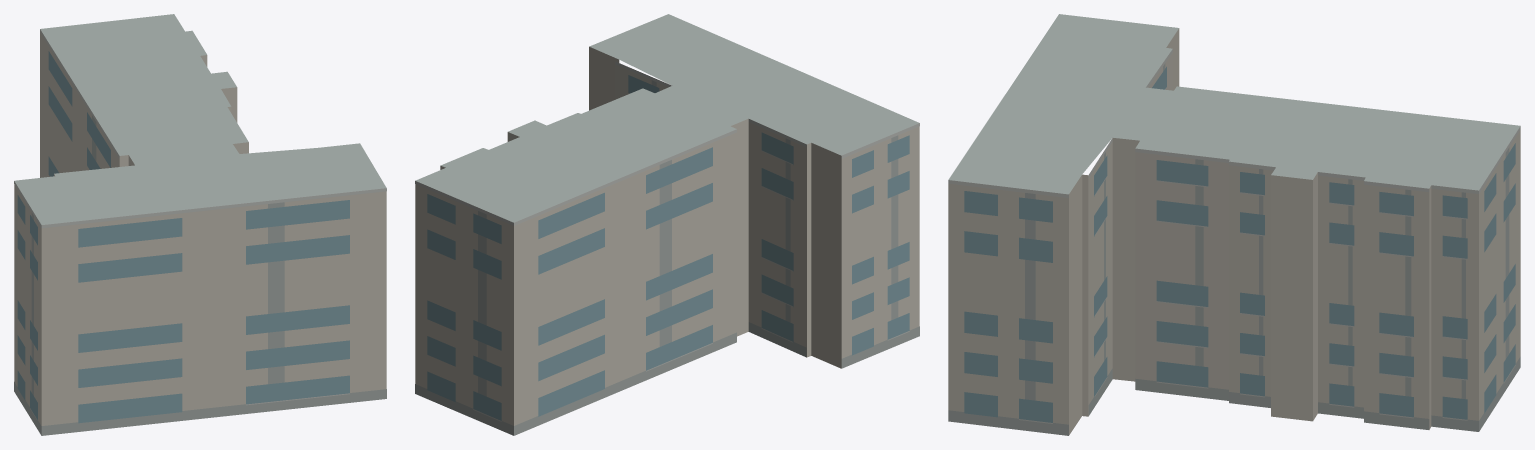
Rendered from survey-upis-32592842.glb.
The picture shows the model from 3 angles, left to right: view 1: azimuth 30°, elevation 25°; view 2: azimuth 150°, elevation 25°; view 3: azimuth 270°, elevation 25°; orthographic projection. The views are drawn at different scales.
Parts seen in each view (by area): view 1: survey-upis-32592842.tmp; view 2: survey-upis-32592842.tmp; view 3: survey-upis-32592842.tmp.
Boxes of the visible parts, x1,y1,x2,y2 form: survey-upis-32592842.tmp: (14,14,386,435); survey-upis-32592842.tmp: (415,14,919,435); survey-upis-32592842.tmp: (948,14,1520,435).
Bounding box in the file's own units: 26.05 × 16.25 × 34.92.
